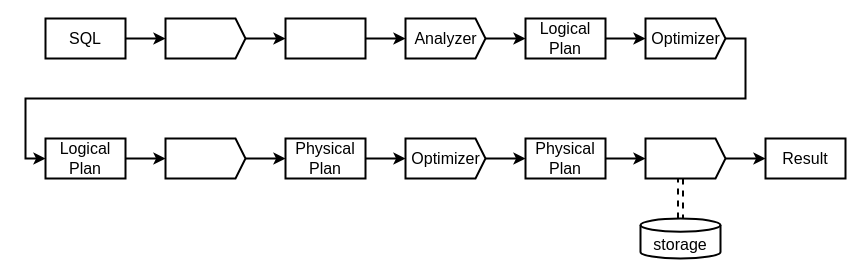
This 863x276 diagram has some shape labels left out. The box of each missing label's shape, as (x1, y1, x2, y2) in pixels:
AST: (284, 17, 366, 59)
Executor: (644, 137, 726, 179)
parser: (164, 17, 246, 59)
Planner: (164, 137, 246, 179)
